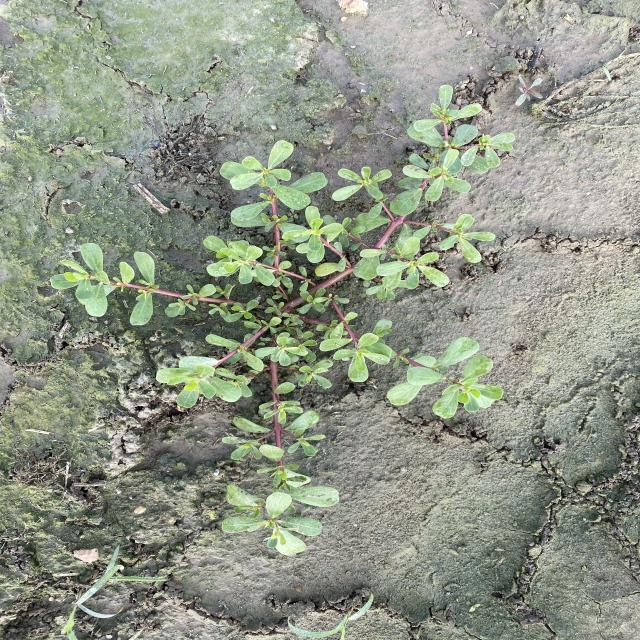Purslane: (46, 84, 521, 558)
